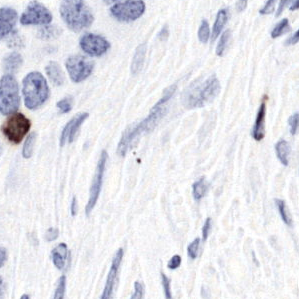Lymphocyte: (1, 113, 32, 145)
